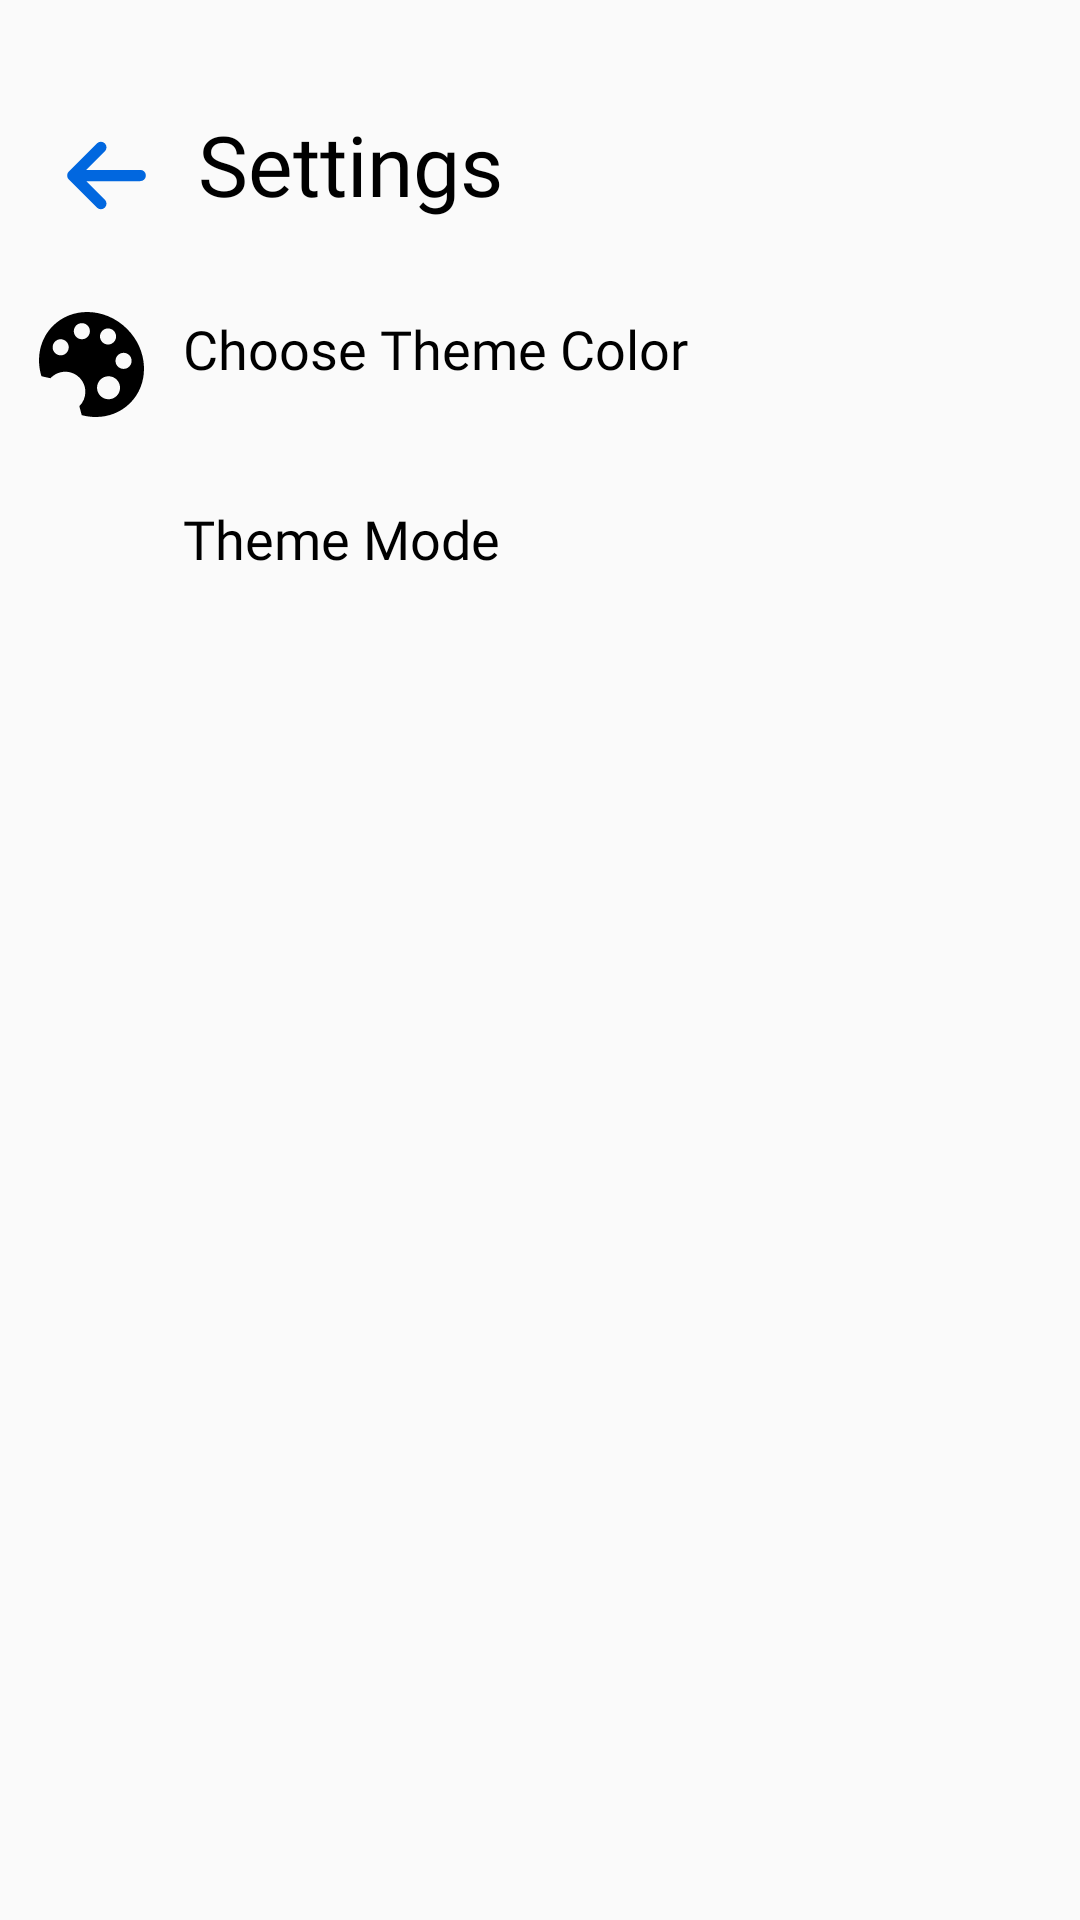

Screen size 1080px×1920px. Icon name, then its box in pixels as bbox=(x1, y1, x2, y2):
back: bbox=(67, 141, 146, 210)
colorplate: bbox=(39, 312, 144, 417)
